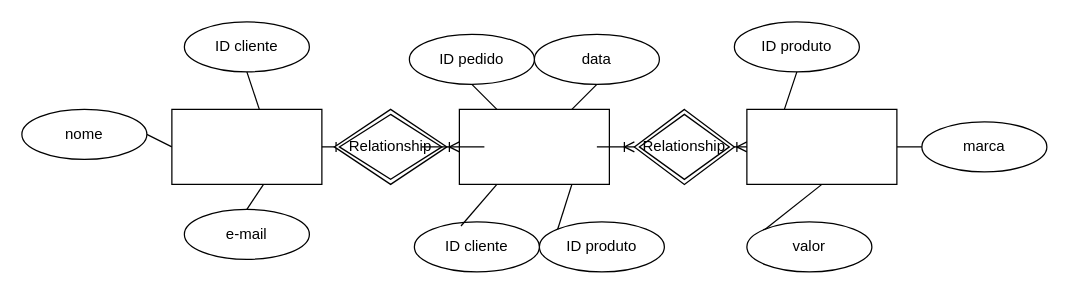
This 1069x294 diagram has some shape labels left out. Here are the shapes that lost their labels. From the top down, the centre of each, then its label:
(x=246, y=146): cliente
(x=533, y=146): pedido
(x=821, y=146): produto
